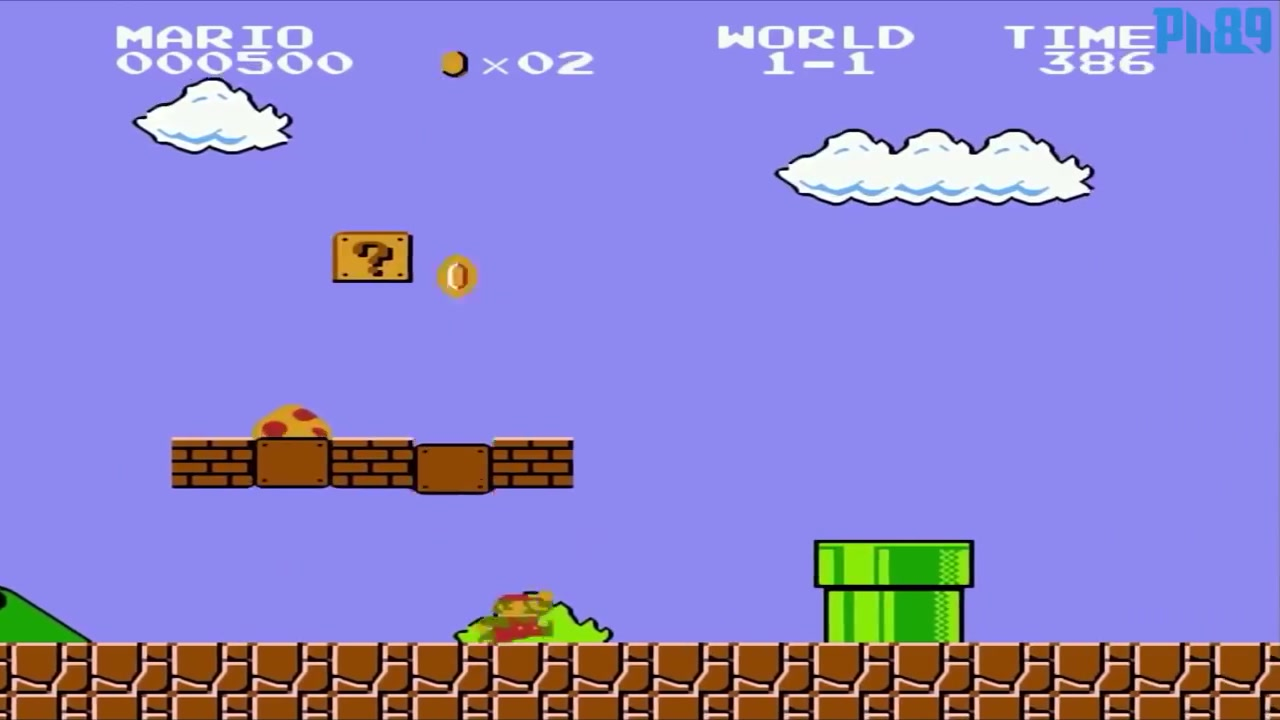mario: (467, 578, 557, 644)
